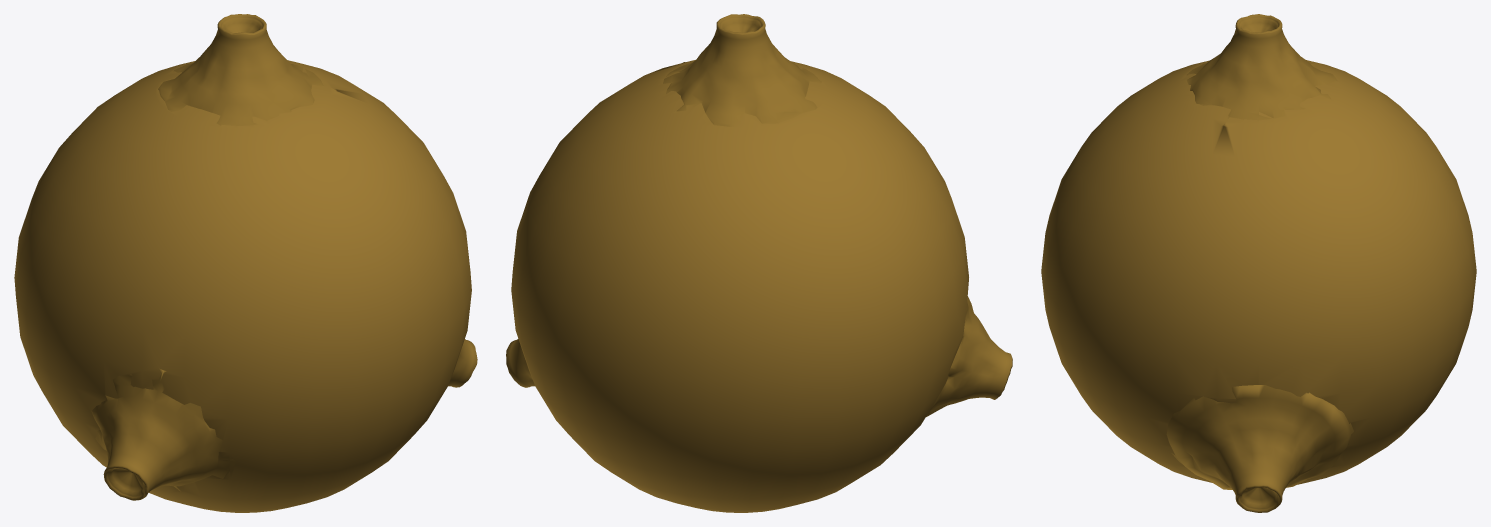
The model's file is PlanetTmp ver.2.1.fbx.
The picture shows the model from 3 angles, left to right: view 1: azimuth 30°, elevation 25°; view 2: azimuth 150°, elevation 25°; view 3: azimuth 270°, elevation 25°; orthographic projection. The views are drawn at different scales.
Parts seen in each view (by area): view 1: Cylinder, Cylinder.001; view 2: Cylinder, Cylinder.001; view 3: Cylinder, Cylinder.001.
Part boxes in pixels (bbox=[...]): Cylinder: bbox=[14, 60, 471, 512]; Cylinder.001: bbox=[91, 14, 477, 500]; Cylinder: bbox=[511, 60, 968, 512]; Cylinder.001: bbox=[506, 14, 1012, 416]; Cylinder: bbox=[1041, 60, 1476, 484]; Cylinder.001: bbox=[1166, 14, 1353, 512].
Bounding box in the file's own units: 1512 × 1569 × 1389.
